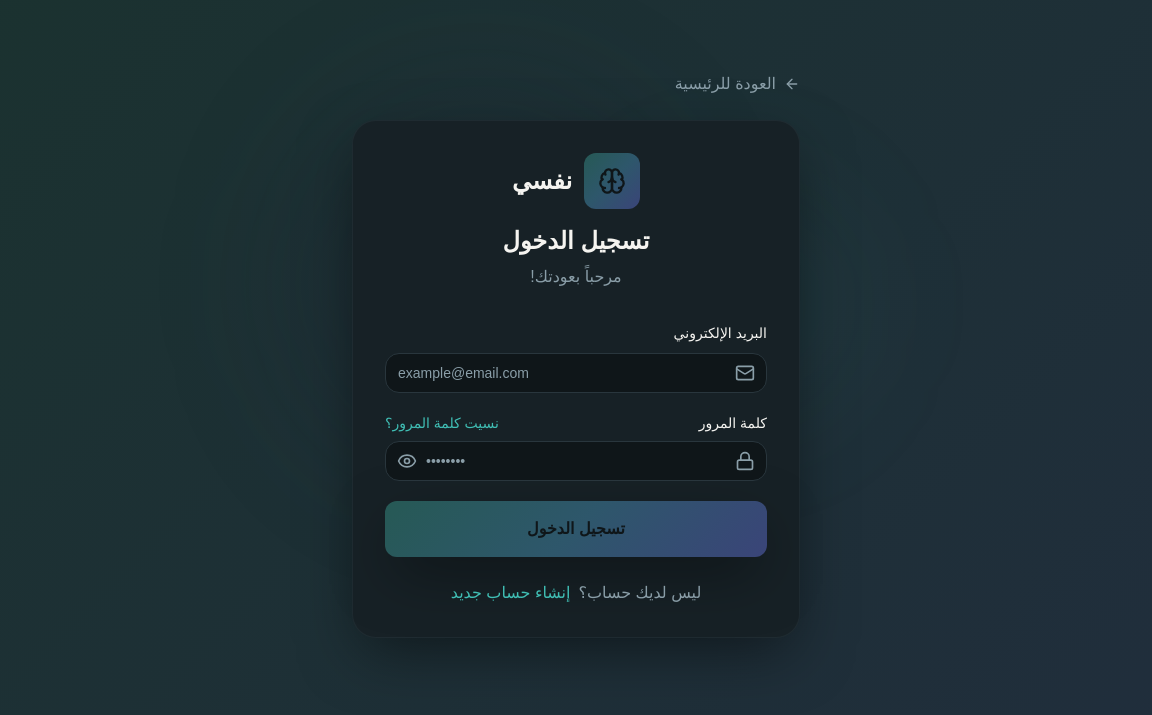
Test: Auth - Signup flow › validates mismatched passwords
Click the button "إنشاء حساب جديد".
click(511, 593)  # box x1=451 y1=581 x2=570 y2=605
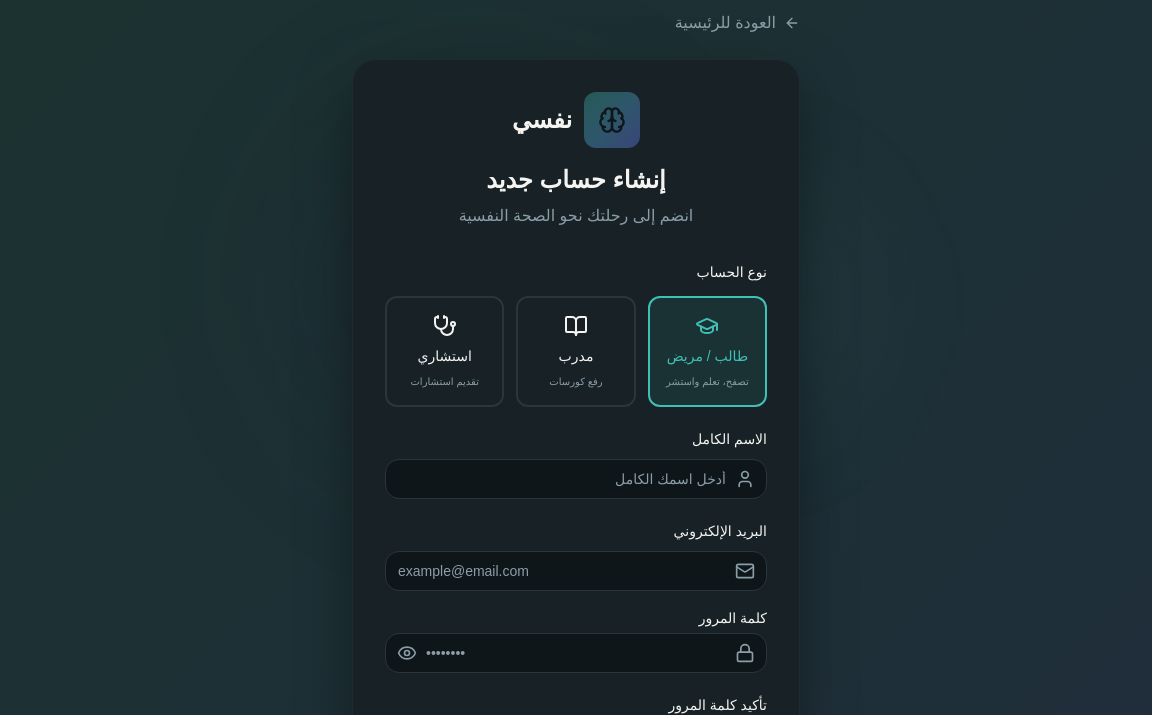
Type "أحمد" into the field labelled "الاسم الكامل".
click(576, 479); type("أحمد")  # box x1=385 y1=459 x2=767 y2=499
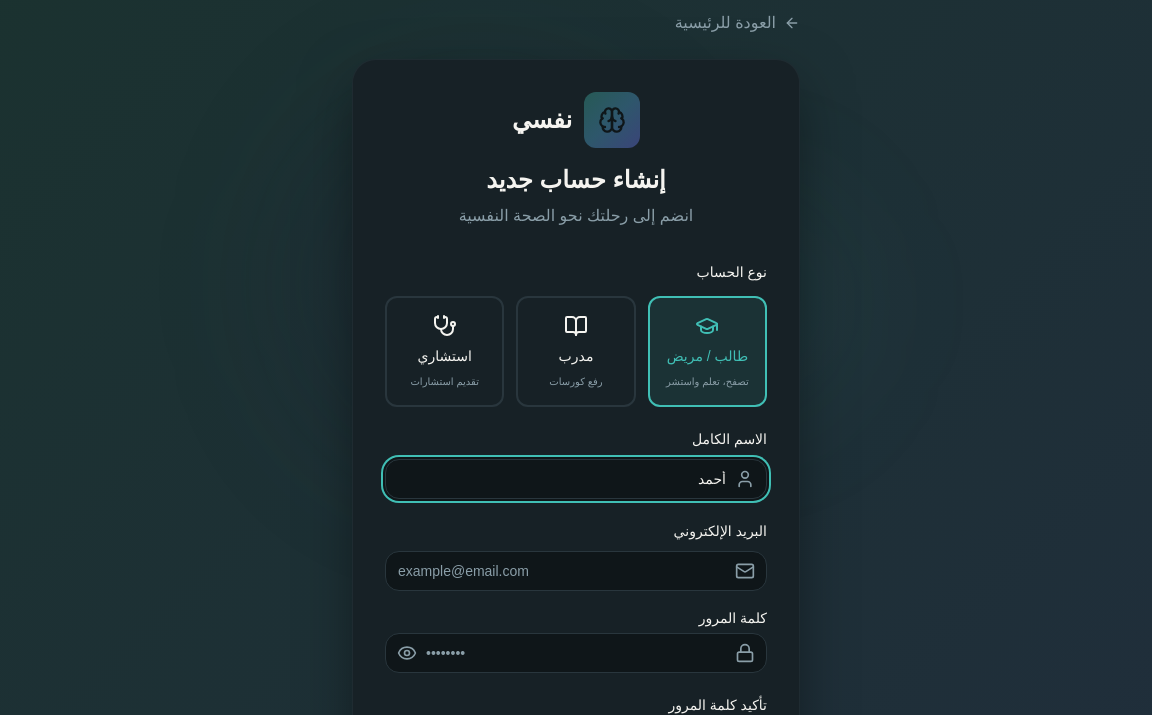
Type "a@b.com" into the field labelled "البريد الإلكتروني".
click(576, 571); type("a@b.com")  # box x1=385 y1=551 x2=767 y2=591
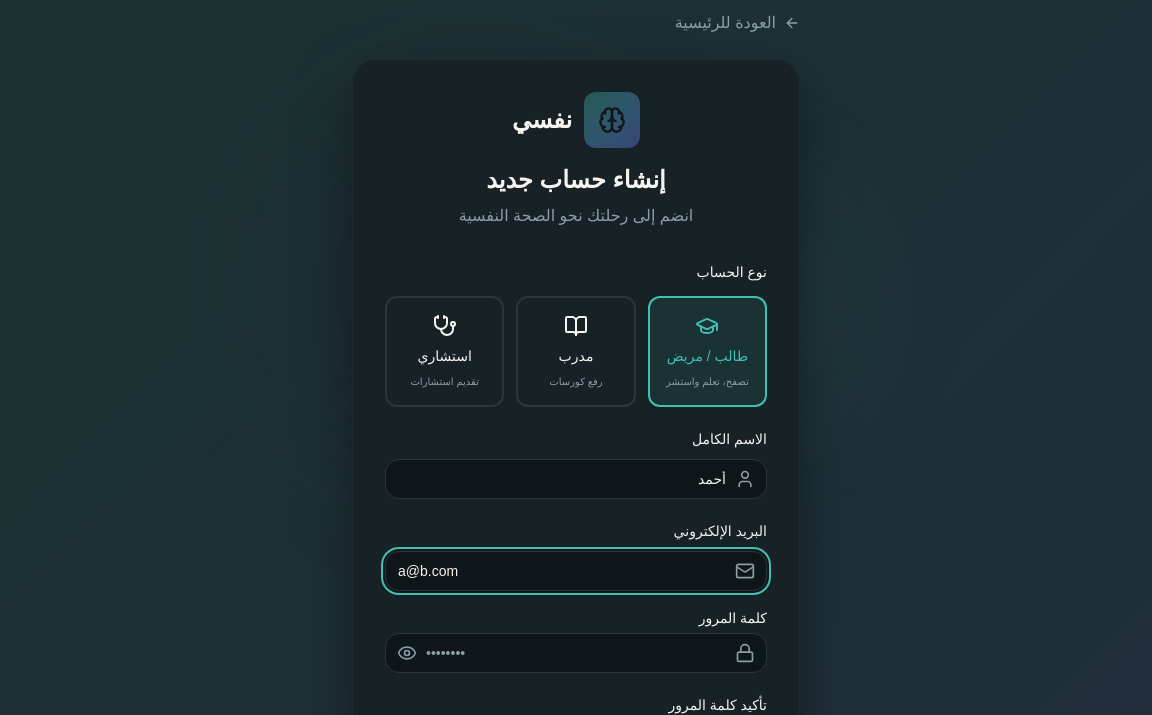
Type "password123" into the password field labelled "كلمة المرور".
click(576, 653); type("password123")  # box x1=385 y1=633 x2=767 y2=673
(page scrolled)
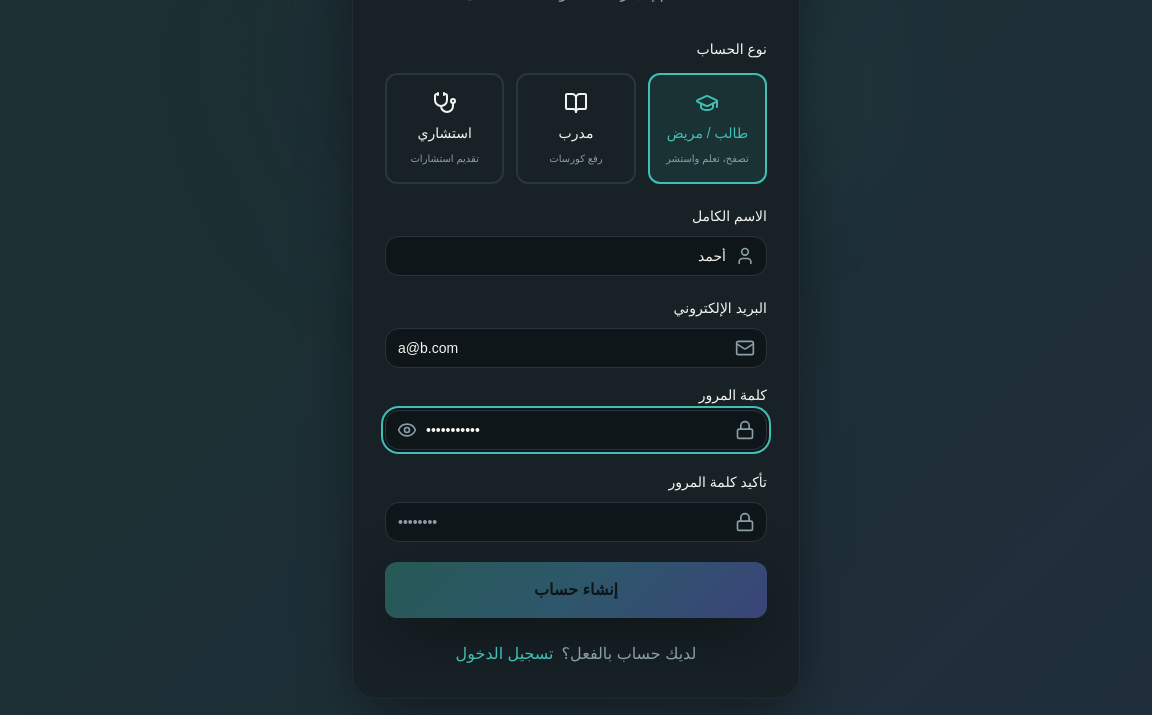
Type "different1" into the password field labelled "تأكيد كلمة المرور".
click(576, 522); type("different1")  # box x1=385 y1=502 x2=767 y2=542
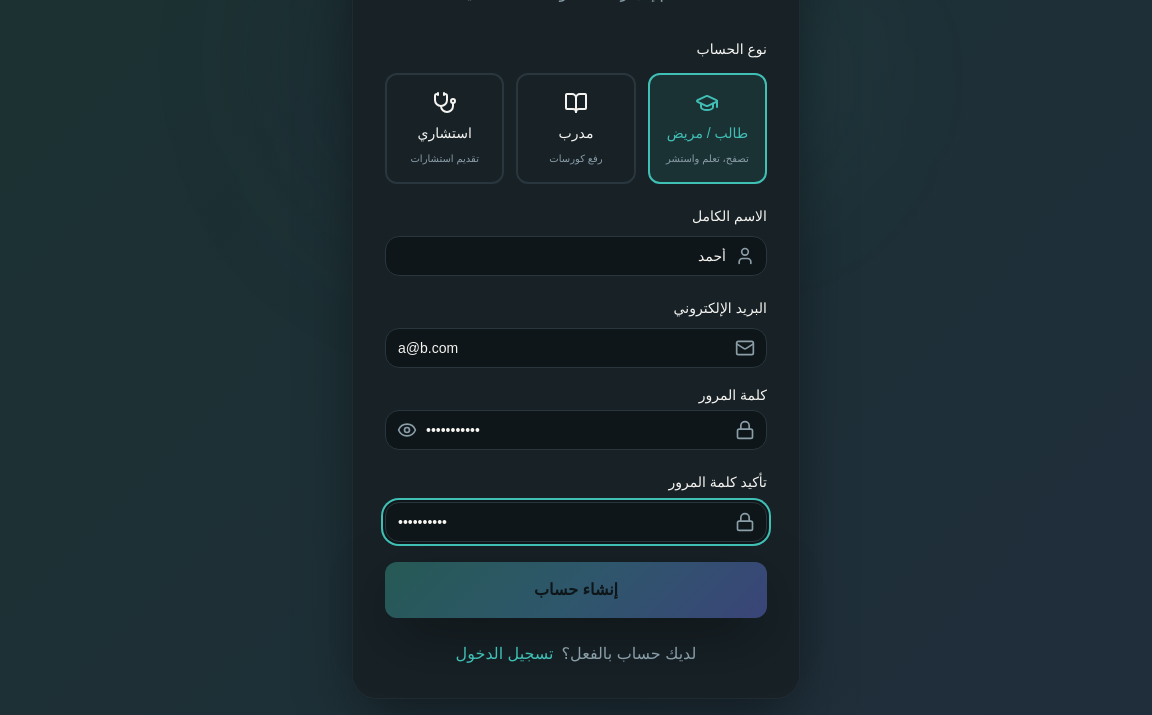
Click the button "إنشاء حساب".
click(576, 590)  # box x1=385 y1=562 x2=767 y2=618
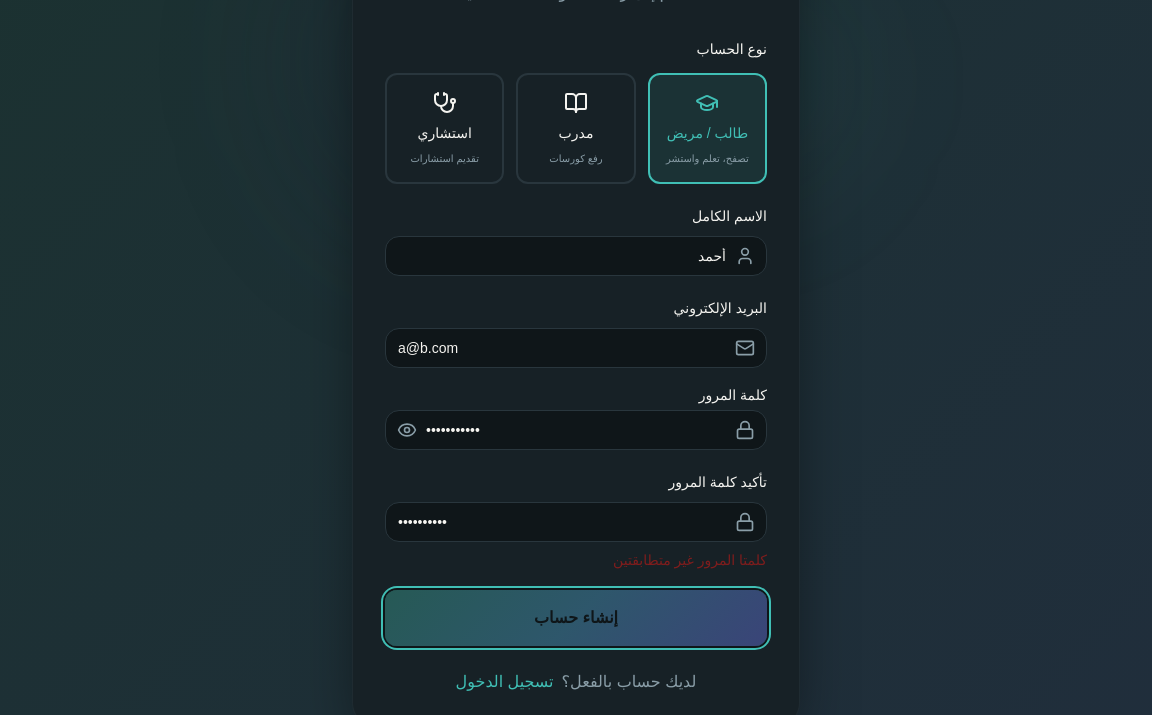
Now the text "كلمتا المرور غير متطابقتين" is shown, box x1=613 y1=552 x2=767 y2=568
